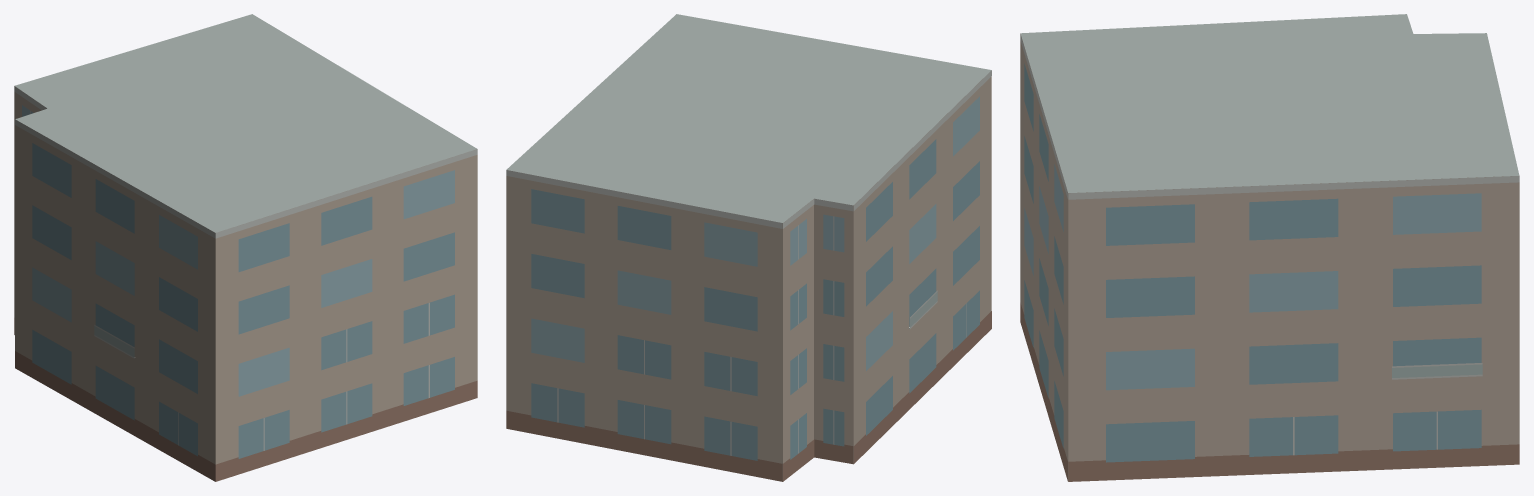
The model's file is survey-upis-32770188.glb.
The picture shows the model from 3 angles, left to right: view 1: azimuth 30°, elevation 25°; view 2: azimuth 150°, elevation 25°; view 3: azimuth 270°, elevation 25°; orthographic projection. The views are drawn at different scales.
Visible parts, largest first — view 1: survey-upis-32770188.tmp; view 2: survey-upis-32770188.tmp; view 3: survey-upis-32770188.tmp.
Part boxes in pixels (x1,y1,x2,y2): survey-upis-32770188.tmp: (14,14,477,481); survey-upis-32770188.tmp: (506,14,991,481); survey-upis-32770188.tmp: (1020,14,1519,481).
Size of the model in its own units: 14.11 by 10.6 by 16.62.
